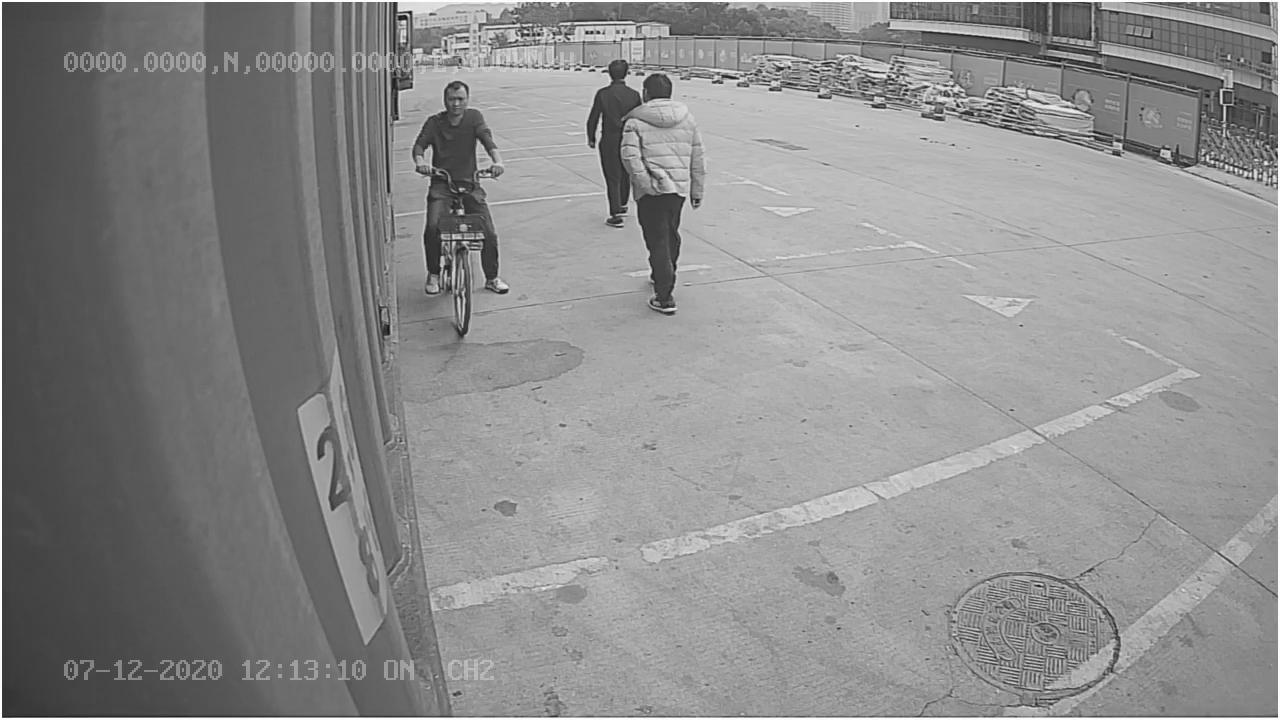person: (619, 68, 710, 313)
